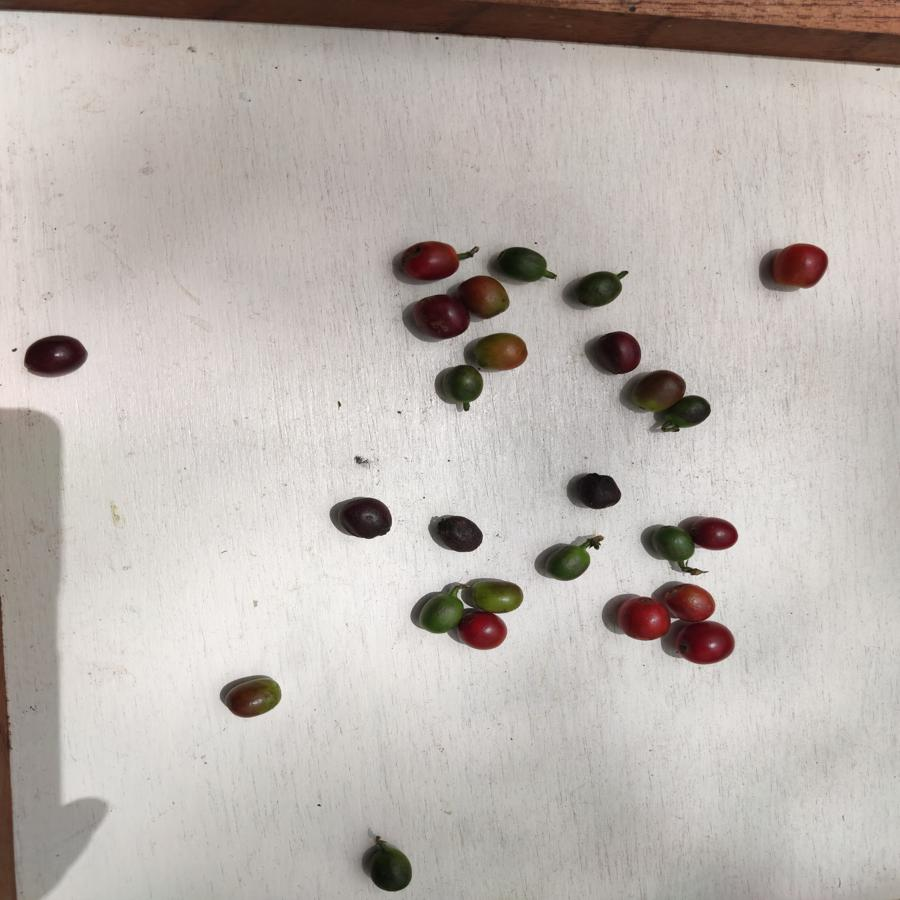Inmaduro: (368, 847, 413, 893), (498, 246, 550, 283), (418, 593, 461, 636), (576, 272, 623, 308), (439, 364, 482, 403), (547, 547, 594, 582), (653, 524, 691, 563), (677, 394, 712, 428)
Maduro: (767, 241, 830, 290), (615, 595, 673, 644), (675, 622, 735, 666), (398, 241, 459, 281), (665, 583, 717, 625), (459, 609, 507, 652)
Pinton: (225, 678, 282, 720), (475, 332, 529, 372), (469, 574, 523, 614), (631, 370, 681, 411), (461, 277, 509, 317)
Sobremaduro: (23, 333, 90, 379), (336, 497, 395, 544), (410, 291, 467, 339), (589, 329, 640, 374), (575, 471, 622, 512), (690, 515, 740, 551), (436, 515, 481, 553)
